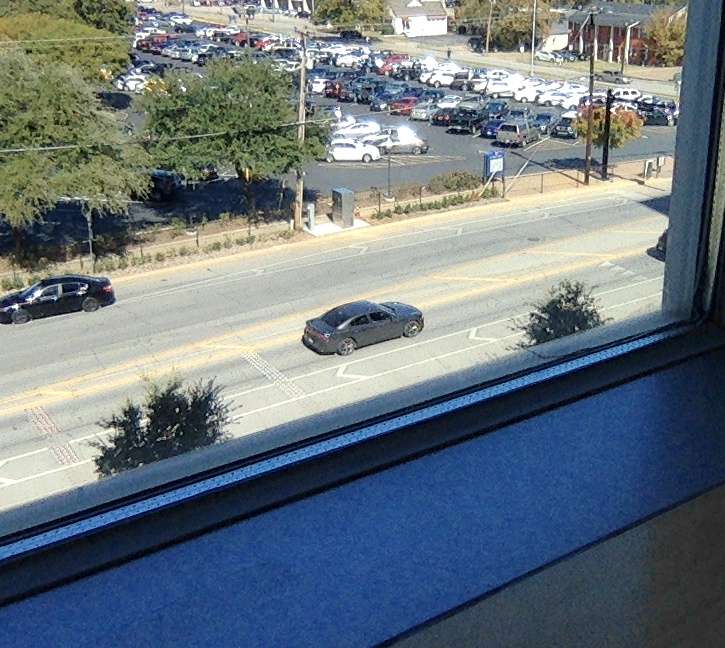car: (300, 300, 425, 358)
